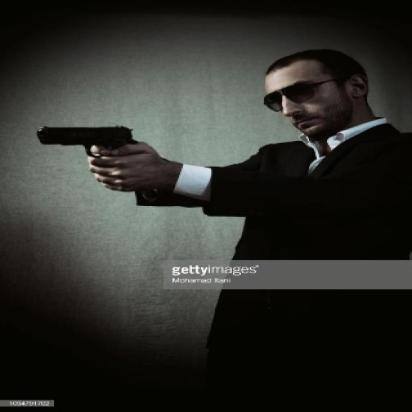Gun: (27, 118, 138, 168)
